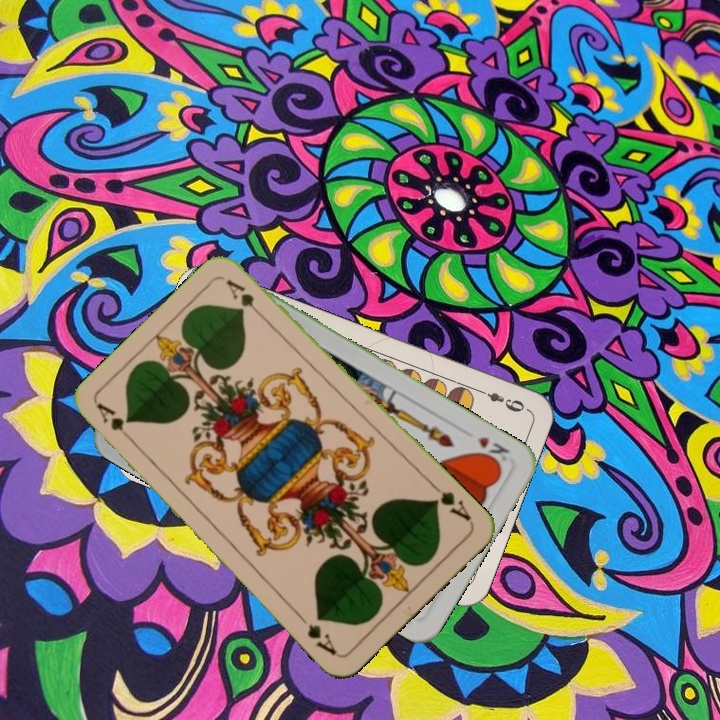E9: (473, 385, 527, 415)
GA: (93, 399, 139, 448), (427, 480, 474, 524)
HK: (472, 432, 512, 468)
